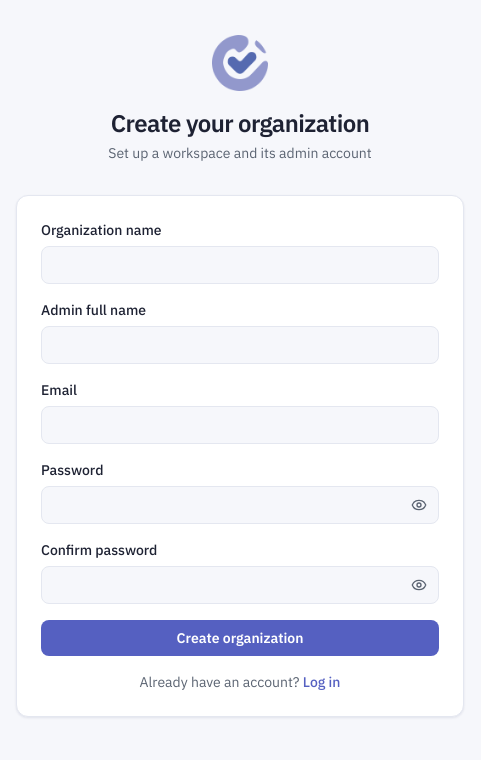
Test case: register organization › surfaces API conflict errors
This screenshot has width=481, height=760.
Type "Acme" into the field labelled "Organization name" at (240, 265), box x1=41 y1=246 x2=439 y2=284
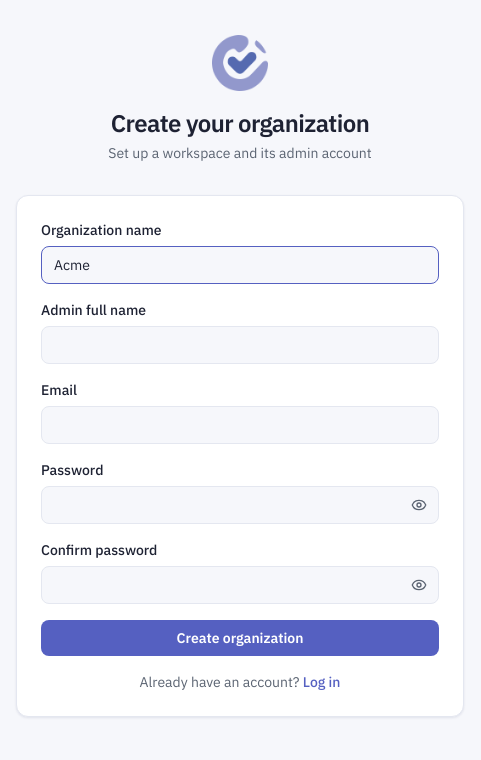
Type "Ava" into the field labelled "Admin full name" at (240, 345), box x1=41 y1=326 x2=439 y2=364
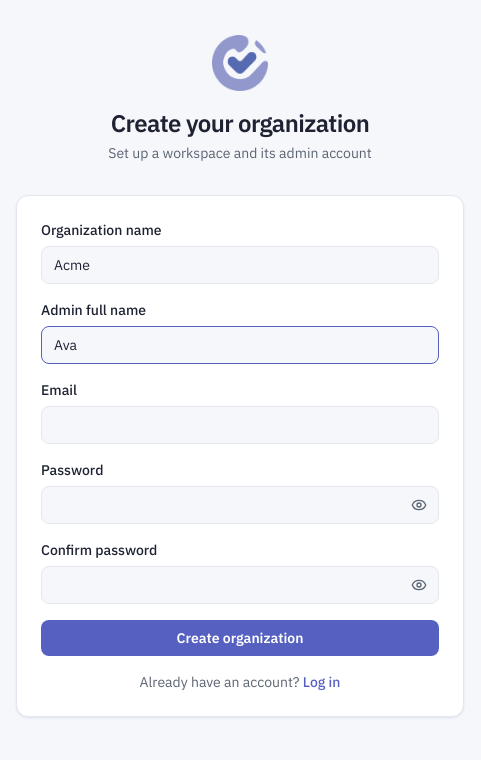
Type "taken@acme.test" into the field labelled "Email" at (240, 425), box x1=41 y1=406 x2=439 y2=444
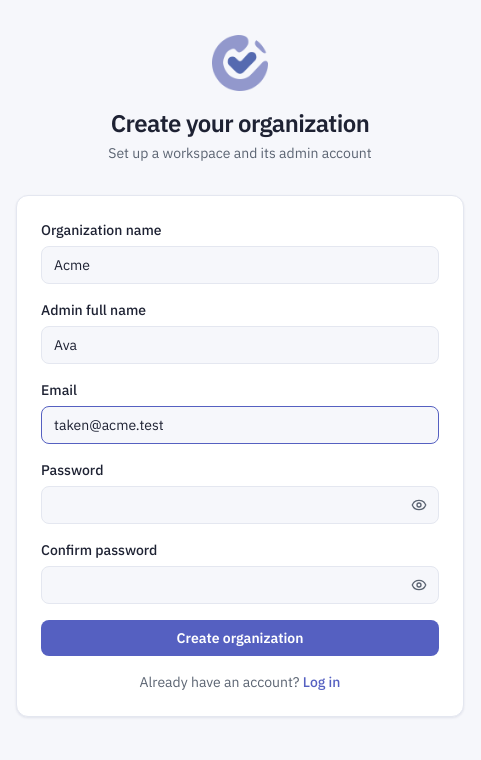
Type "password123" into the password field labelled "Password" at (240, 505), box x1=41 y1=486 x2=439 y2=524
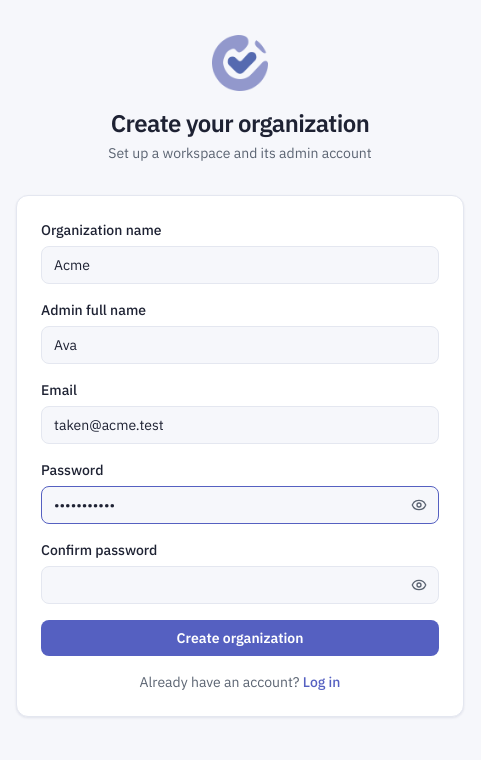
Type "password123" into the password field labelled "Confirm password" at (240, 585), box x1=41 y1=566 x2=439 y2=604
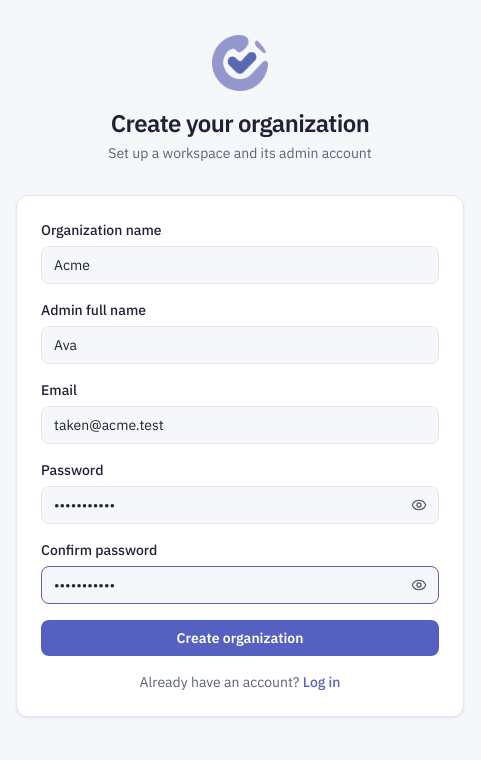
Click the button "Create organization" at (240, 638), box x1=41 y1=620 x2=439 y2=656
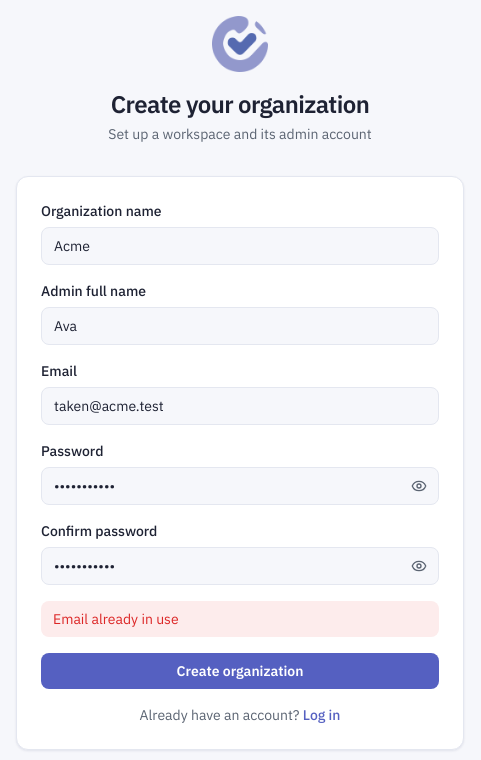
Result: the message reads "Email already in use" at x1=53 y1=610 x2=179 y2=628
